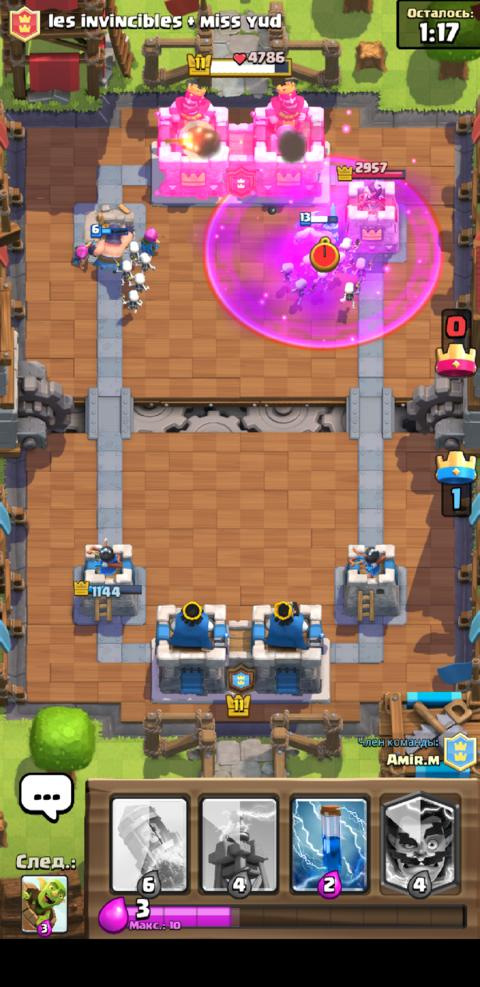ally_archer: (137, 224, 165, 255), (69, 238, 93, 270)
ally_elite_barbarian: (293, 202, 340, 248)
ally_executioner: (88, 220, 134, 276)
ally_skeleton: (338, 277, 361, 312), (291, 278, 316, 305), (119, 288, 143, 313), (351, 255, 374, 279), (339, 235, 358, 261), (113, 259, 132, 284), (135, 250, 155, 273), (278, 260, 293, 285), (130, 274, 149, 292), (334, 249, 349, 271), (126, 239, 140, 261), (316, 267, 330, 288), (298, 252, 311, 273)
enemy_rage: (200, 149, 443, 350)
